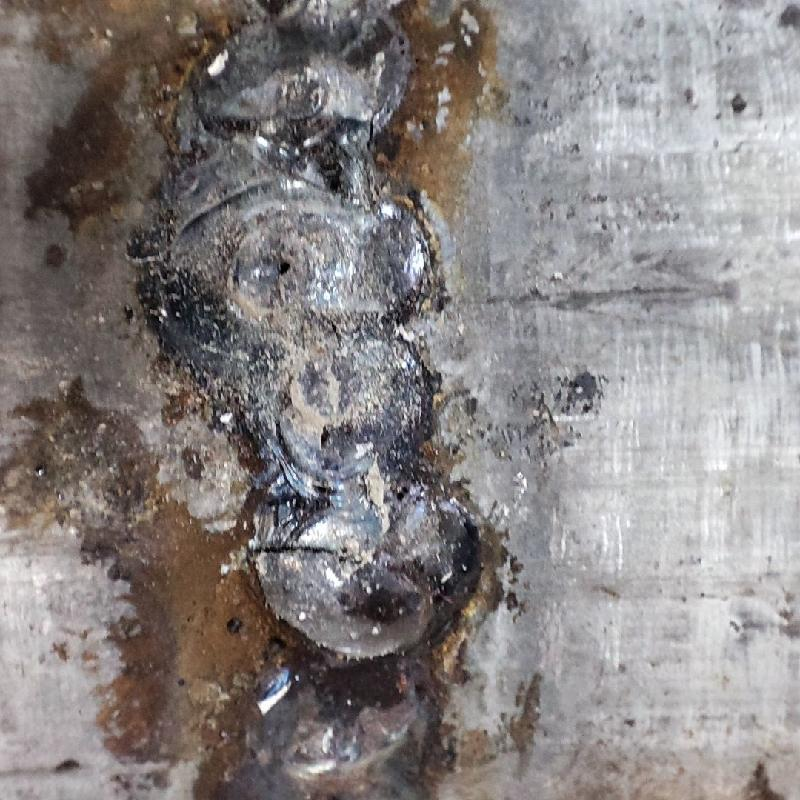Surface_pores: (242, 239, 317, 292)
